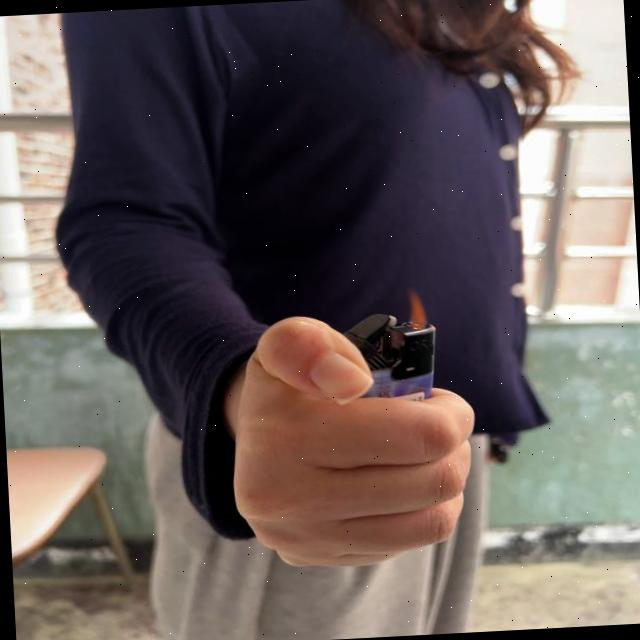fire: (404, 284, 433, 334)
